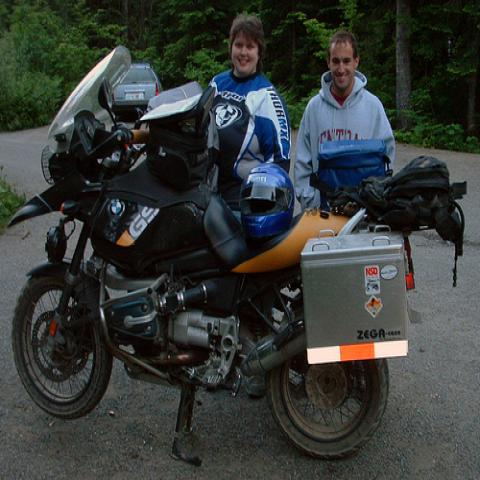car: (116, 64, 161, 117)
motorcycle: (6, 43, 416, 459)
